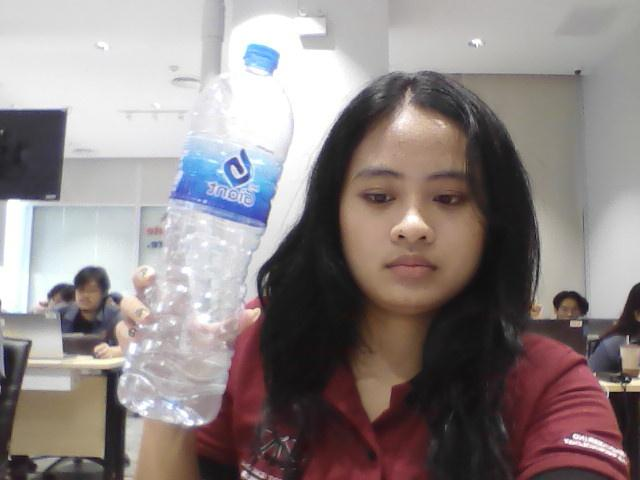bottle: (140, 26, 301, 433)
